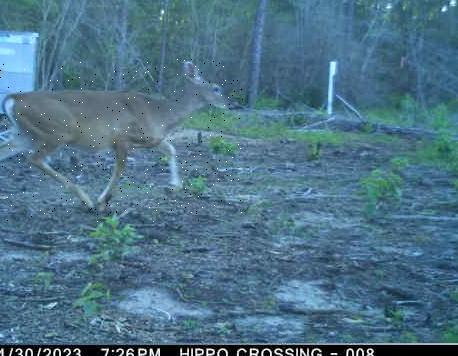Deer: (0, 59, 243, 222)
